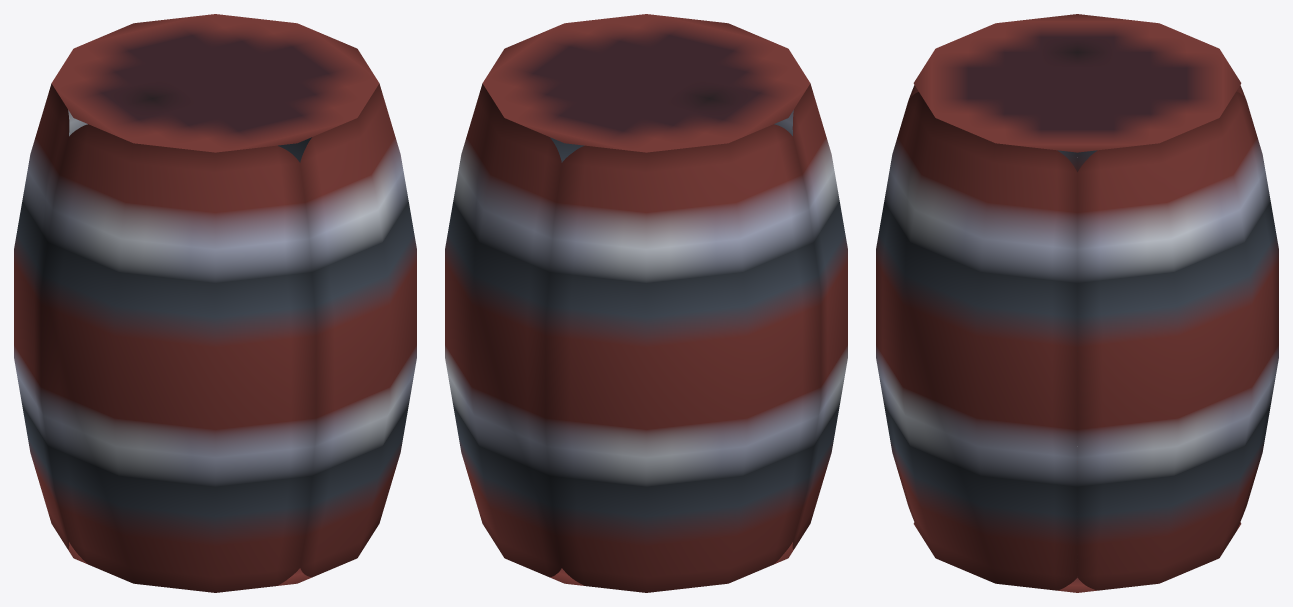
File: barrel_0.fbx
3 renders of one model, left to right at view 1: azimuth 30°, elevation 25°; view 2: azimuth 150°, elevation 25°; view 3: azimuth 270°, elevation 25°, orthographic.
Visible parts, largest first — view 1: barrel_0; view 2: barrel_0; view 3: barrel_0.
Part boxes in pixels (<box>): barrel_0: <box>14,14,416,592</box>; barrel_0: <box>445,14,847,592</box>; barrel_0: <box>876,14,1278,592</box>.
Bounding box in the file's own units: 66.33 × 66.33 × 80.
